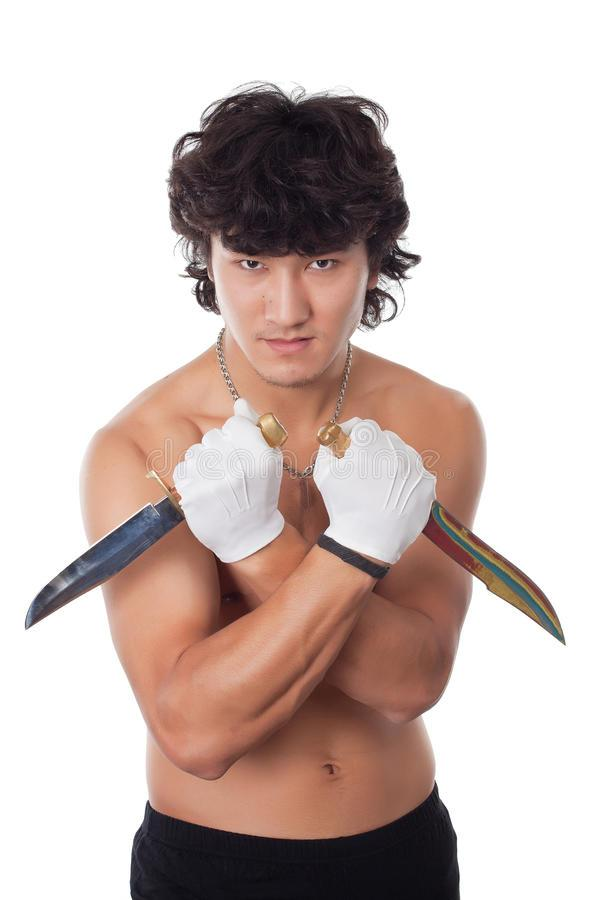criminal: (18, 76, 570, 900)
weapon: (18, 416, 288, 642), (316, 416, 571, 649)
